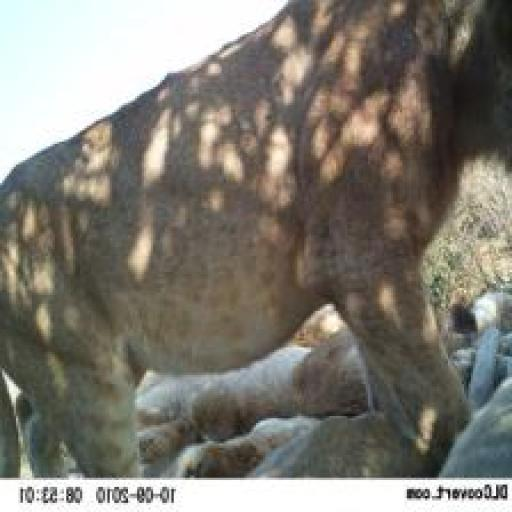lion: (2, 7, 502, 482)
